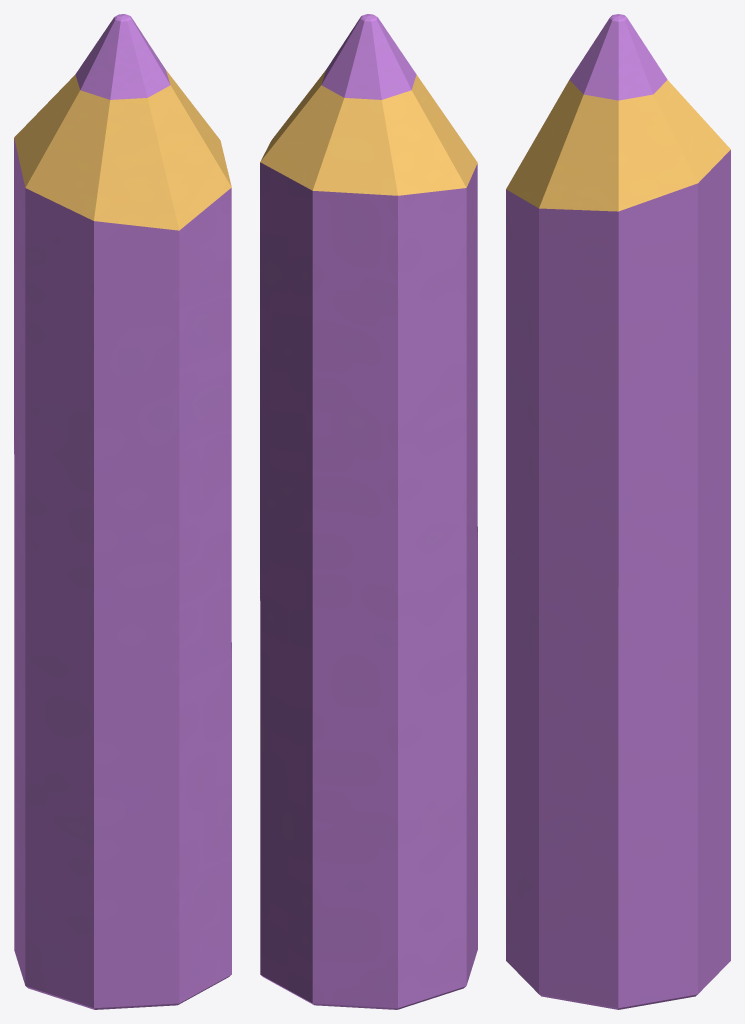
Rendered from Pen_4.fbx.
3 renders of one model, left to right at view 1: azimuth 30°, elevation 25°; view 2: azimuth 150°, elevation 25°; view 3: azimuth 270°, elevation 25°, orthographic.
Parts seen in each view (by area): view 1: Cylinder.009; view 2: Cylinder.009; view 3: Cylinder.009.
Boxes of the visible parts, box(x1,y1,x2,y2) form: Cylinder.009: box(14, 14, 231, 1009); Cylinder.009: box(260, 14, 477, 1009); Cylinder.009: box(506, 14, 730, 1009).
Bounding box in the file's own units: 129 × 599 × 129.
